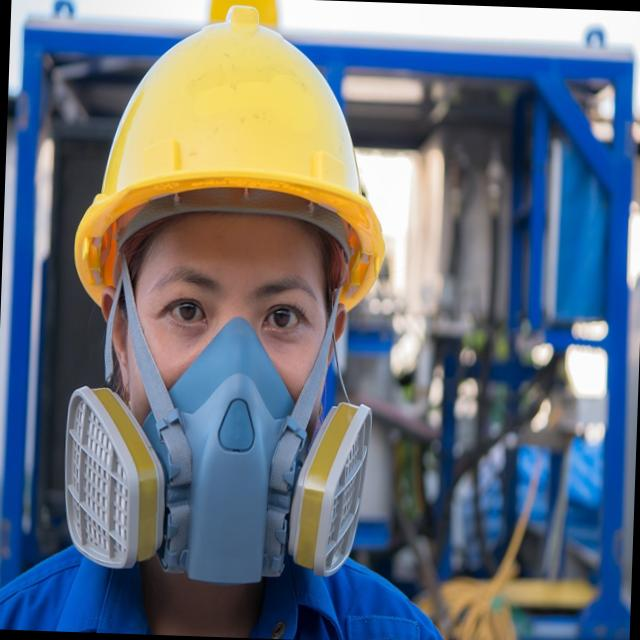helmet: (68, 0, 396, 330)
no-goggles: (92, 224, 362, 363)
no-vest: (0, 537, 449, 640)
